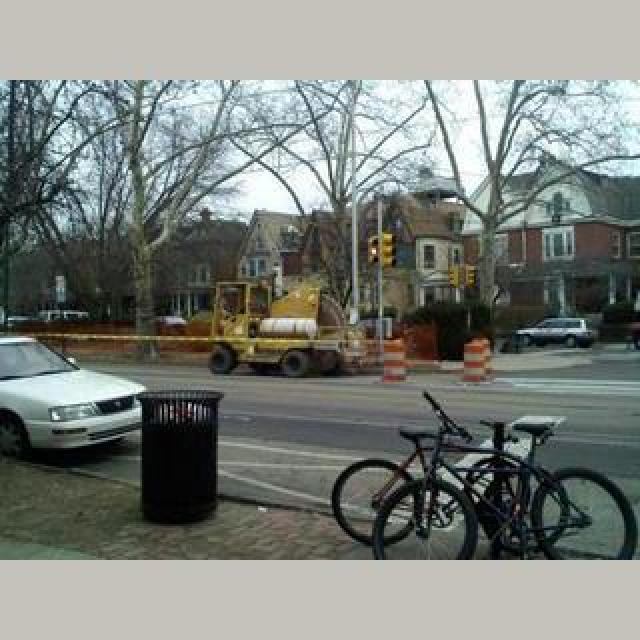Bus-Bike: (0, 336, 148, 462), (510, 316, 594, 350)
Person: (372, 388, 638, 560), (330, 408, 566, 546)
Person-Bike: (204, 278, 350, 378)
